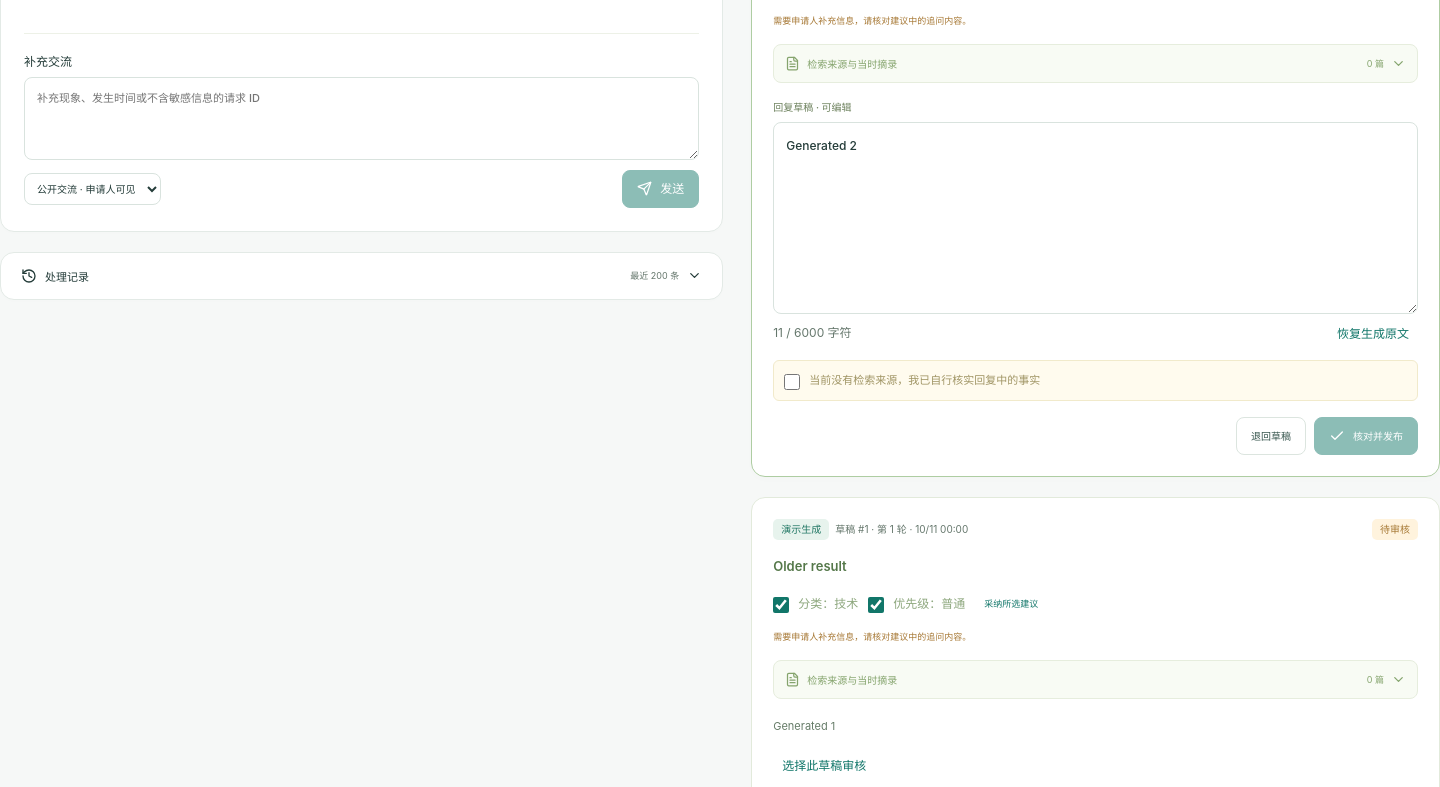
Test: completed operation feedback › announces publication immediately after the server confirms success
(page scrolled)
Click the checkbox labelled "当前没有检索来源，我已自行核实回复中的事实" at (792, 382), box top-left (784, 374), bottom-right (800, 390)
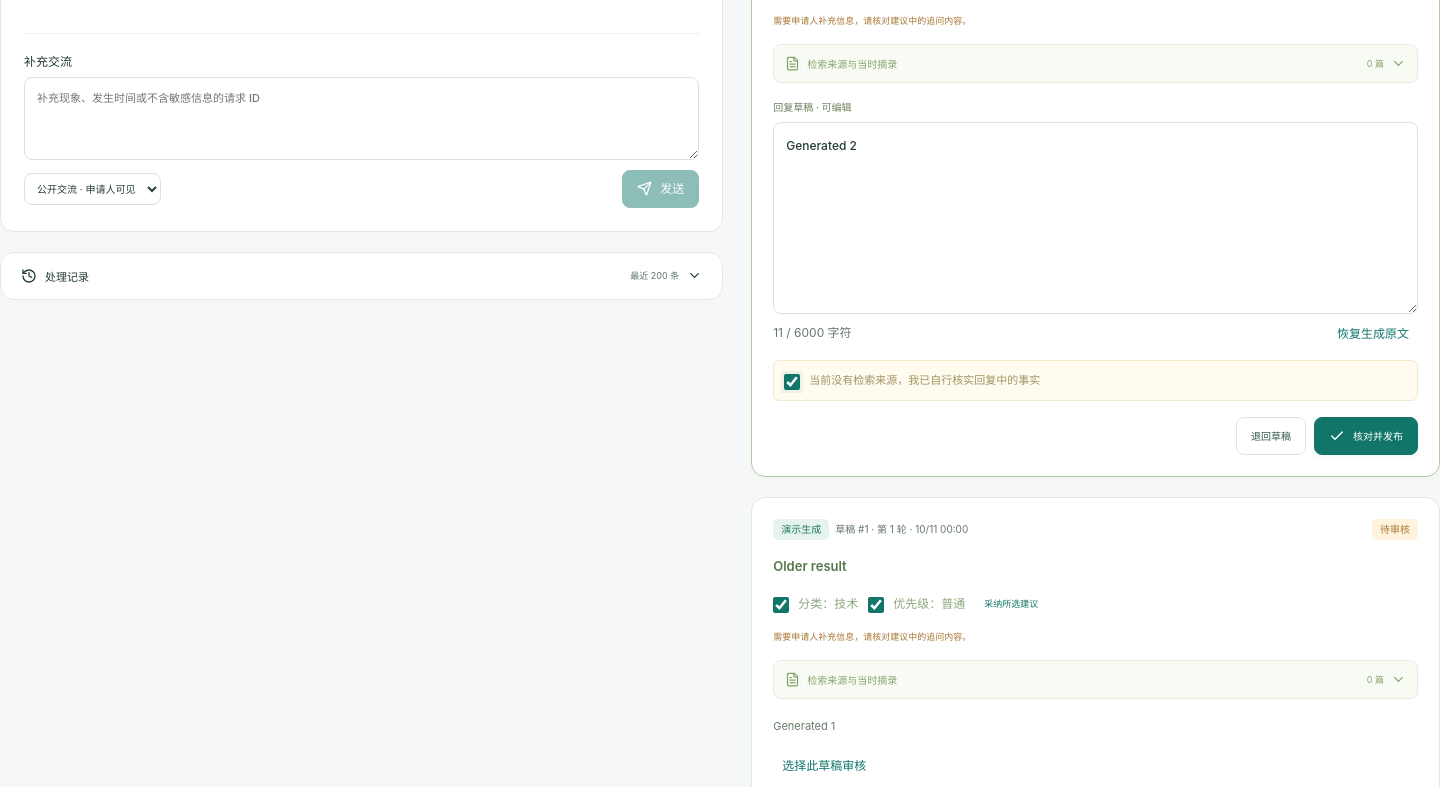
Click the button "核对并发布" at (1366, 436), box top-left (1314, 417), bottom-right (1418, 455)
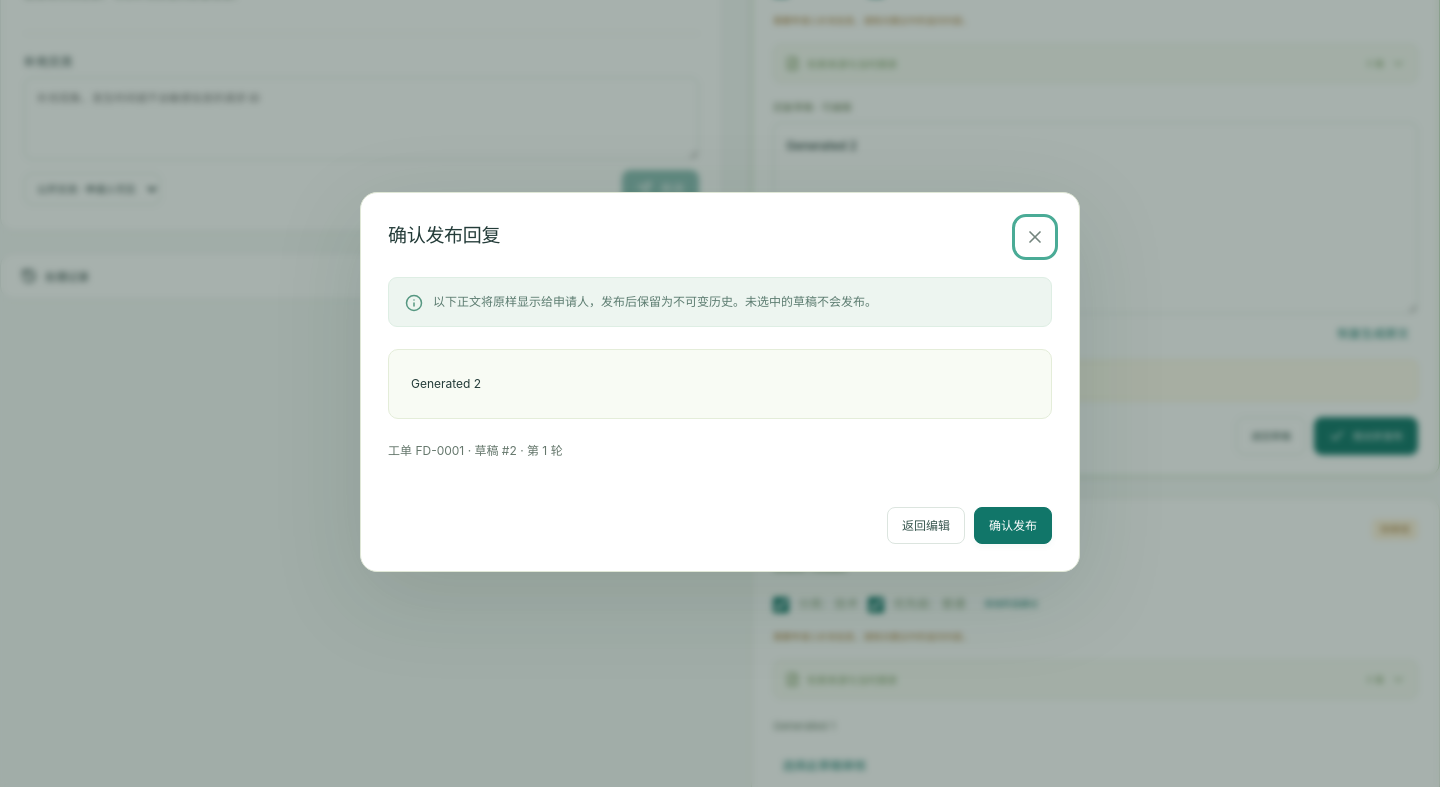
Click the button "确认发布" at (1013, 526), box top-left (974, 507), bottom-right (1052, 544)
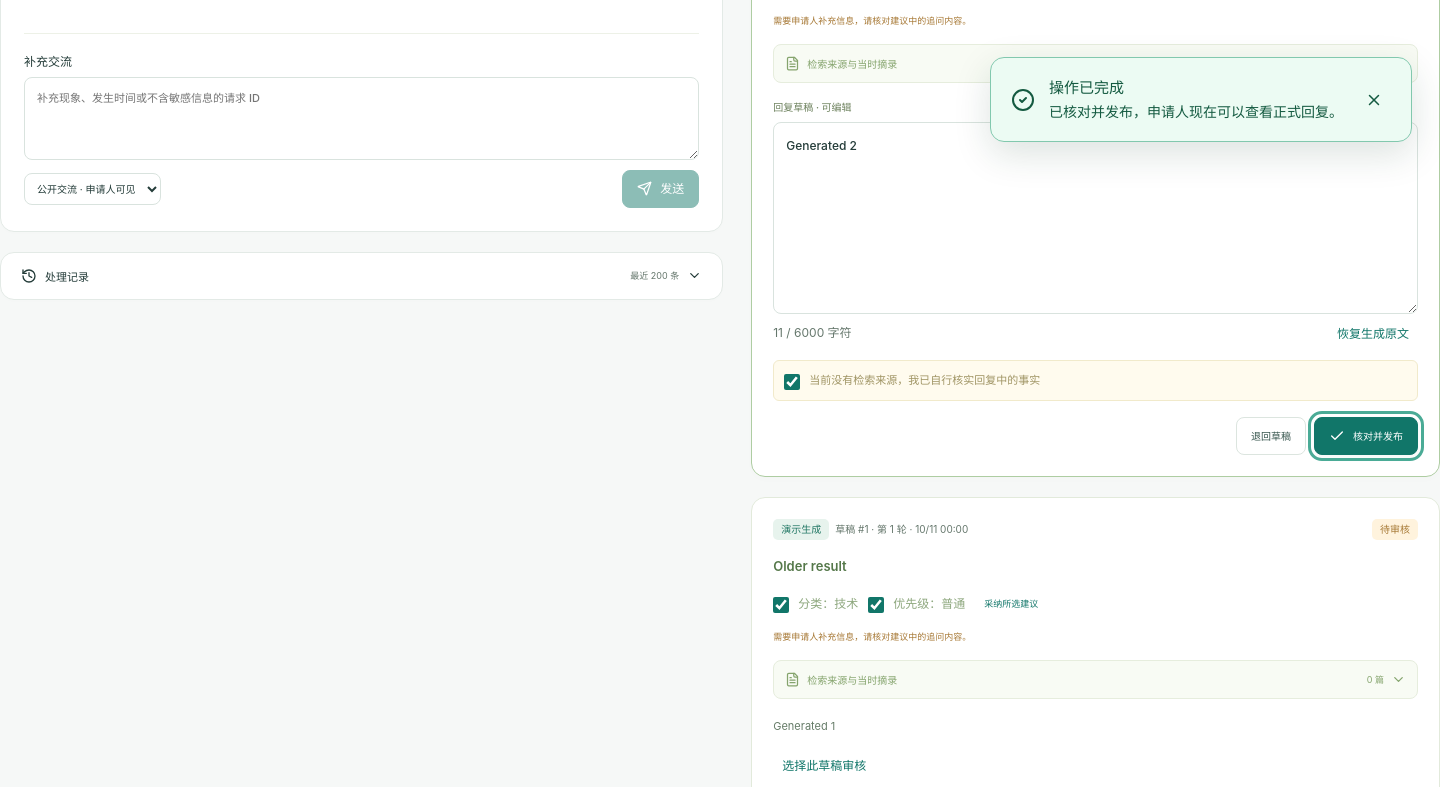
Now the text "已核对并发布，申请人现在可以查看正式回复。" is shown, box top-left (1049, 101), bottom-right (1343, 123)
